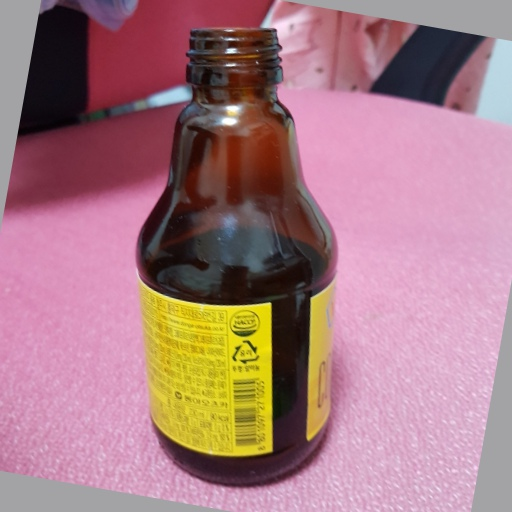Glass_3: (129, 21, 343, 487)
